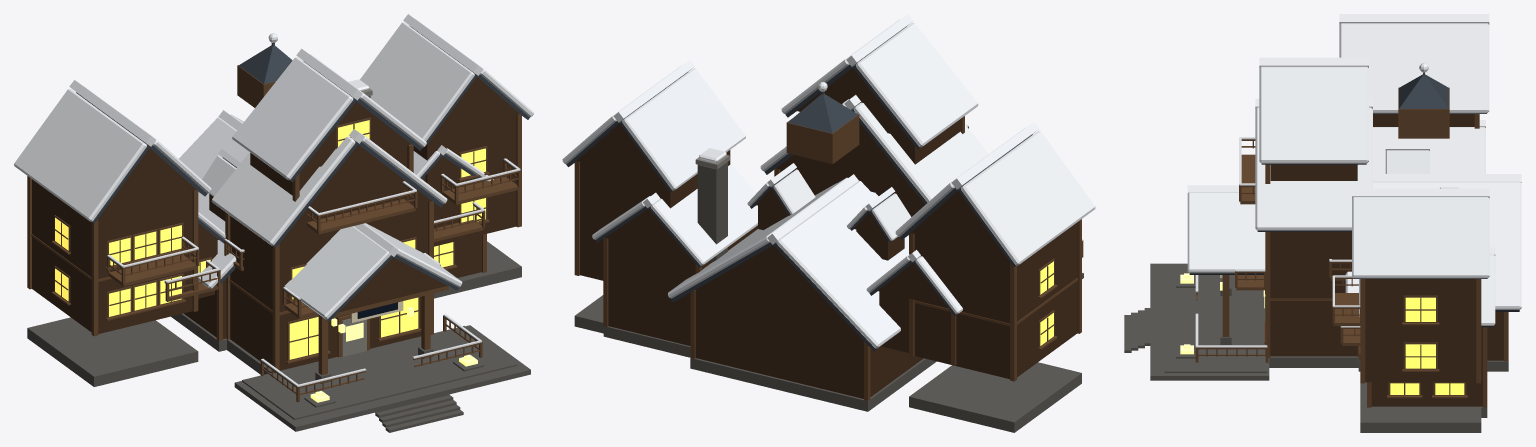
The model's file is lodge-tier-3-adirondack.glb.
3 views of the same model, side by side, from view 1: azimuth 30°, elevation 25°; view 2: azimuth 150°, elevation 25°; view 3: azimuth 270°, elevation 25° (orthographic). The views are drawn at different scales.
Visible parts, largest first — view 1: lodge-tier-3-adirondack; view 2: lodge-tier-3-adirondack; view 3: lodge-tier-3-adirondack.
Boxes of the visible parts, x1,y1,x2,y2 form: lodge-tier-3-adirondack: (14, 14, 533, 432); lodge-tier-3-adirondack: (562, 14, 1095, 432); lodge-tier-3-adirondack: (1124, 14, 1521, 432).
Bounding box in the file's own units: 31.65 × 19.02 × 24.67.
